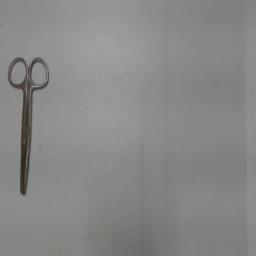Dressing Scissors: (4, 50, 54, 206)
